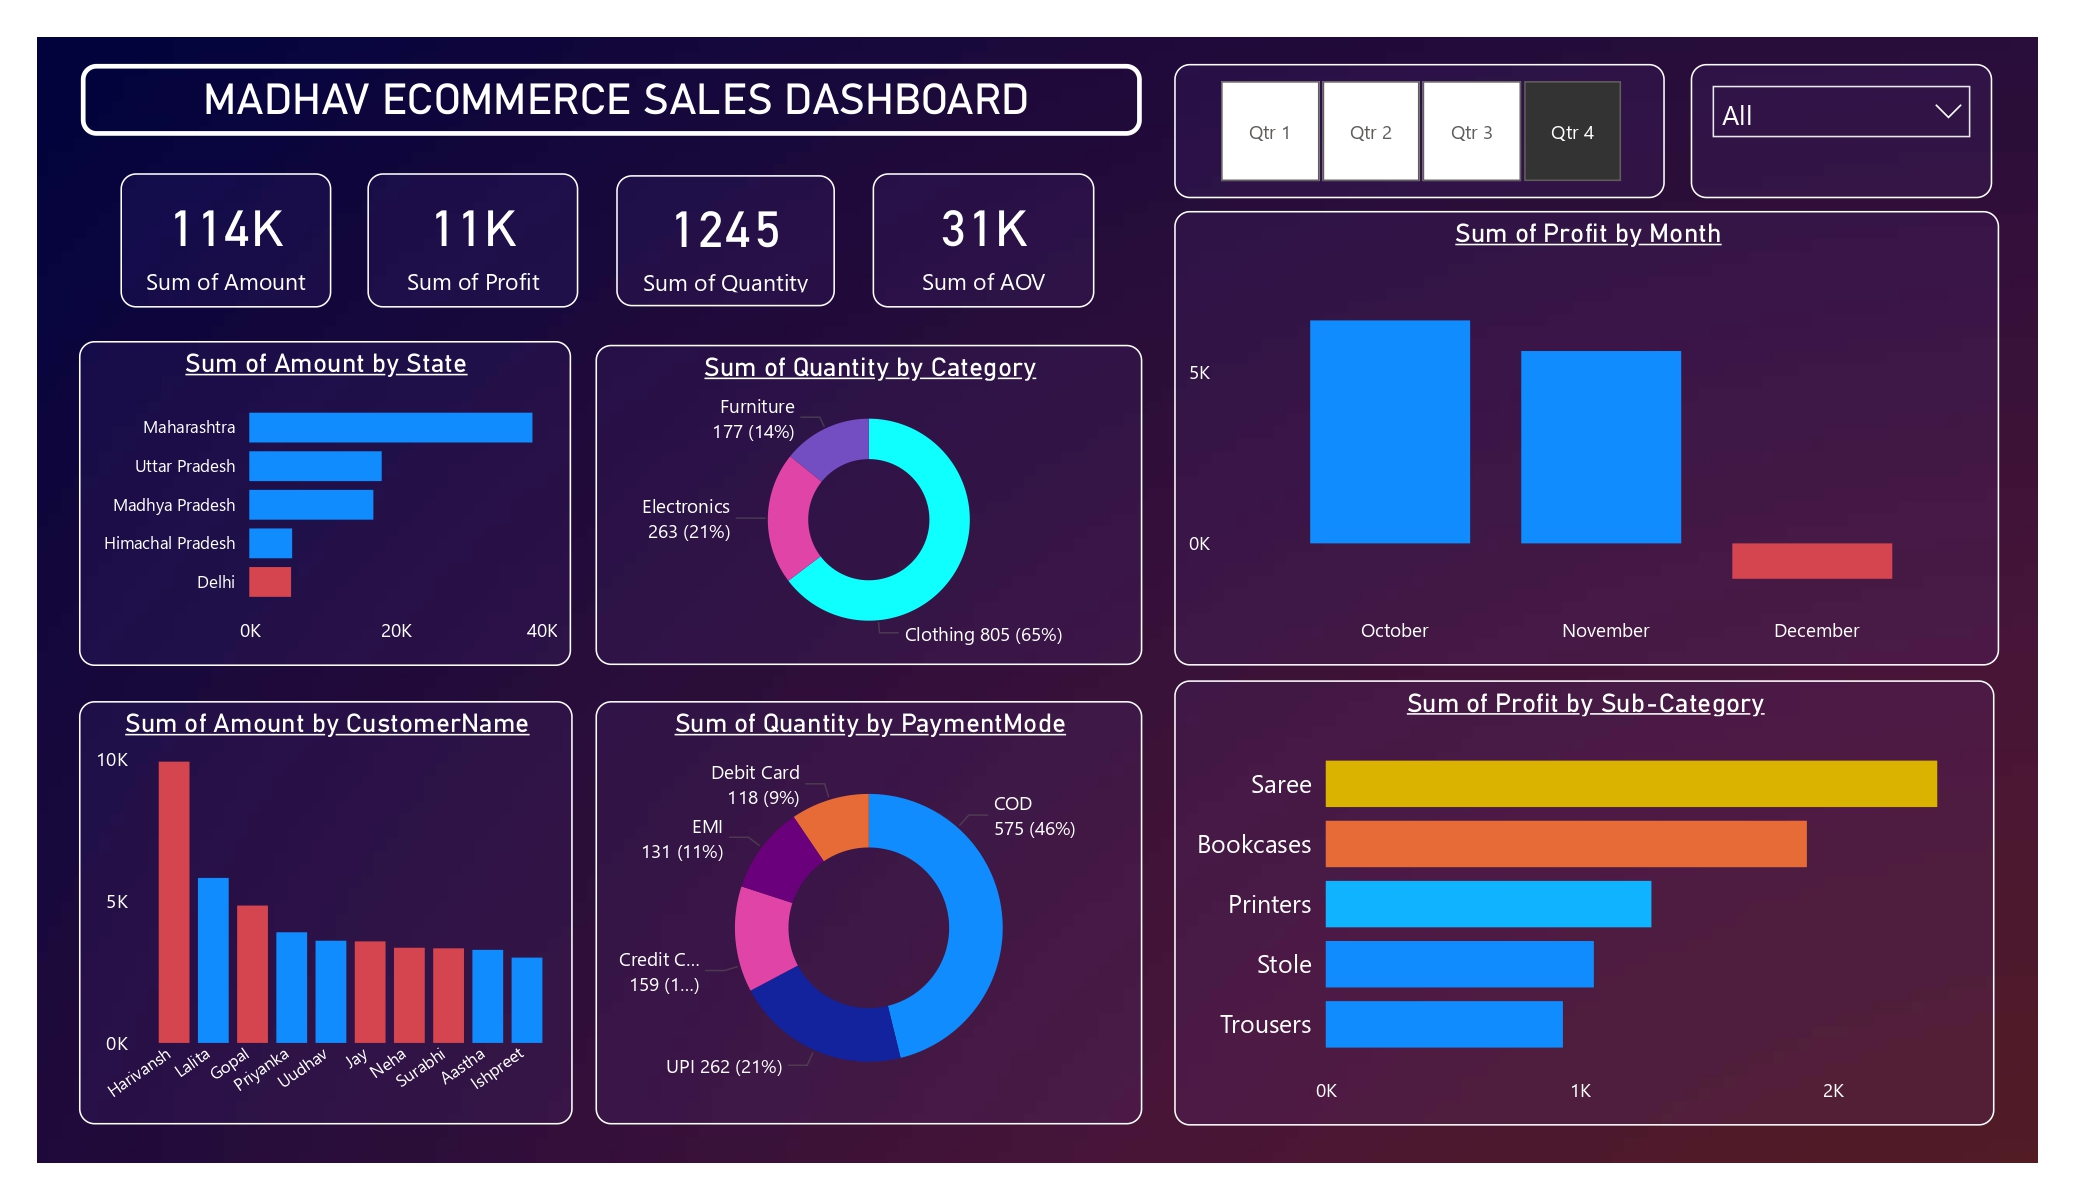

This screenshot's page, from the dashboard's own definition file:
{"tool":"powerbi","page":{"name":"Page 1","canvas":[1280,720],"ordinal":0},"visuals":[{"type":"textbox","title":"MADHAV ECOMMERCE SALES DASHBOARD","box":[27.7,16.9,679.2,45.8],"z":0},{"type":"columnChart","fields":{"Category":["Orders.Order Date.Variation.Date Hierarchy.Month"],"Y":["Details.Profit"]},"box":[727.3,111.1,528.3,290.9],"z":1000},{"type":"barChart","fields":{"Category":["Details.Sub-Category"],"Y":["Details.Profit"]},"box":[727.5,411.4,524.8,284.7],"z":2000},{"type":"donutChart","fields":{"Category":["Details.Category"],"Y":["Details.Quantity"]},"box":[357.1,196.6,349.9,205.1],"z":3000},{"type":"donutChart","fields":{"Y":["Details.Quantity"],"Category":["Details.PaymentMode"]},"box":[357.1,424.7,349.9,271.4],"z":4000},{"type":"card","fields":{"Values":["Details.Amount"]},"box":[52.8,86.9,135.1,85.7],"z":5000},{"type":"card","fields":{"Values":["Details.Profit"]},"box":[210.9,86.9,135.1,85.7],"z":6000},{"type":"card","fields":{"Values":["Details.AOV"]},"box":[534.2,86.9,142.4,85.7],"z":7000},{"type":"card","fields":{"Values":["Details.Quantity"]},"box":[370.1,88.1,139.9,84.5],"z":8000},{"type":"barChart","fields":{"Category":["Orders.State"],"Y":["Details.Amount"]},"box":[26.5,194.2,314.9,207.5],"z":9000},{"type":"columnChart","fields":{"Category":["Orders.CustomerName"],"Y":["Details.Amount"]},"box":[27,425,316,271],"z":10000},{"type":"slicer","fields":{"Values":["Orders.Order Date.Variation.Date Hierarchy.Quarter"]},"box":[727.3,16.5,314.2,86.4],"z":11000},{"type":"slicer","fields":{"Values":["Orders.State"]},"box":[1058,16.5,193.5,86.4],"z":12000}]}

Visuals, with their boxes on the page's 1280x720 design canvas (x1, y1, x2, y2). These are canvas units, not pixel positions in the 2075x1200 screenshot, which may show the page scaled, cropped or inside an application window:
"MADHAV ECOMMERCE SALES DASHBOARD" textbox: pyautogui.locateOnScreen(28, 17, 707, 63)
columnChart - Orders.Order Date.Variation.Date Hierarchy.Month x Details.Profit: pyautogui.locateOnScreen(727, 111, 1256, 402)
barChart - Details.Sub-Category x Details.Profit: pyautogui.locateOnScreen(728, 411, 1252, 696)
donutChart - Details.Category x Details.Quantity: pyautogui.locateOnScreen(357, 197, 707, 402)
donutChart - Details.Quantity x Details.PaymentMode: pyautogui.locateOnScreen(357, 425, 707, 696)
card - Details.Amount: pyautogui.locateOnScreen(53, 87, 188, 173)
card - Details.Profit: pyautogui.locateOnScreen(211, 87, 346, 173)
card - Details.AOV: pyautogui.locateOnScreen(534, 87, 677, 173)
card - Details.Quantity: pyautogui.locateOnScreen(370, 88, 510, 173)
barChart - Orders.State x Details.Amount: pyautogui.locateOnScreen(26, 194, 341, 402)
columnChart - Orders.CustomerName x Details.Amount: pyautogui.locateOnScreen(27, 425, 343, 696)
slicer - Orders.Order Date.Variation.Date Hierarchy.Quarter: pyautogui.locateOnScreen(727, 16, 1042, 103)
slicer - Orders.State: pyautogui.locateOnScreen(1058, 16, 1252, 103)
